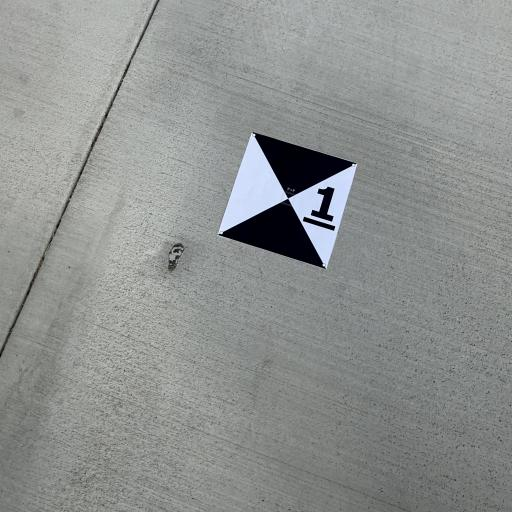target1: (215, 128, 365, 282)
